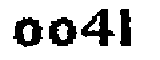4: (80, 7, 115, 50)
l: (117, 6, 137, 51)
o: (48, 16, 78, 48), (12, 16, 42, 46)
